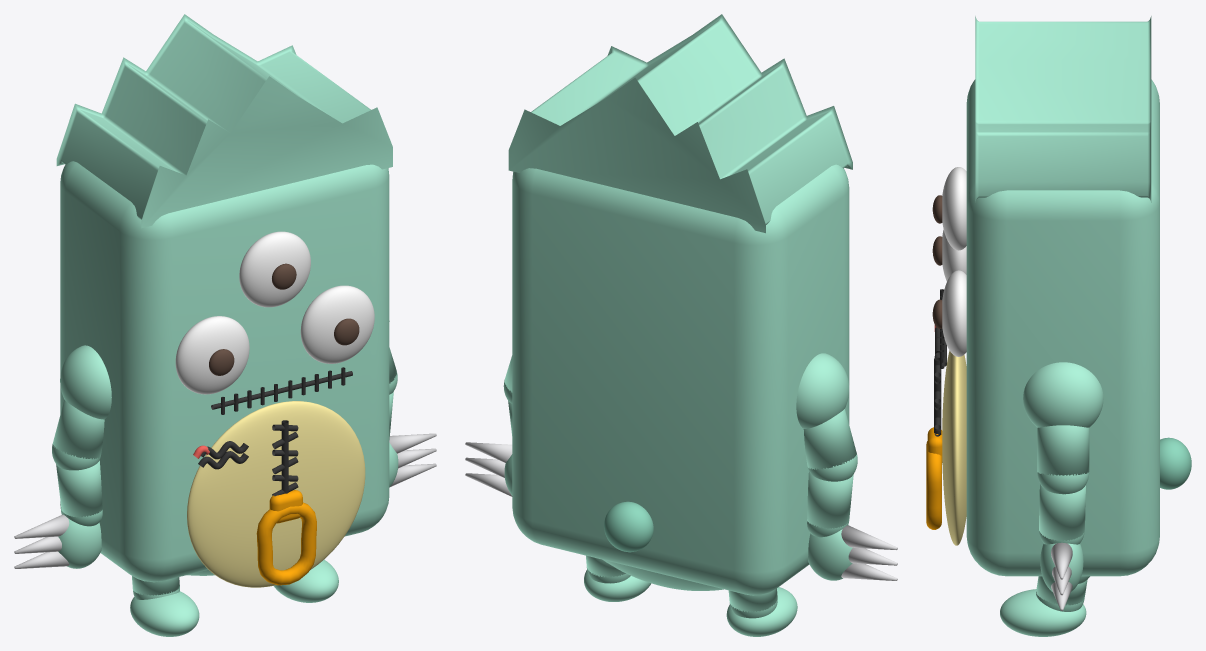
The model's file is lukman_v2.glb.
3 views of the same model, side by side, from view 1: azimuth 30°, elevation 25°; view 2: azimuth 150°, elevation 25°; view 3: azimuth 270°, elevation 25° (orthographic). The views are drawn at different scales.
Visible parts, largest first — view 1: BODY, HEAD_CREST, BELLY_PATCH, EYE.LEFT, EYE.RIGHT, EYE.TOP, SHOULDER.L, ZIPPER.PULL_LOOP, FOOT.L, UPPER_ARM.L, FOREARM.L, FOOT.R (+7 smaller); view 2: BODY, HEAD_CREST, SHOULDER.L, UPPER_ARM.L, FOREARM.L, BACK_NUB, FOOT.L, HAND.L.PALM, FOOT.R, LOWER_VOLUME, CALF.L, CLAW.L.1 (+2 smaller); view 3: BODY, HEAD_CREST, SHOULDER.R, BELLY_PATCH, UPPER_ARM.R, FOOT.R, FOREARM.R, EYE.RIGHT, EYE.TOP, BACK_NUB, ZIPPER.PULL_LOOP, HAND.R.PALM (+4 smaller).
Part boxes in pixels (box(x1,y1,x2,y2)): BODY: box(60, 161, 389, 582); HEAD_CREST: box(56, 14, 392, 228); BELLY_PATCH: box(187, 401, 365, 587); EYE.LEFT: box(175, 316, 249, 394); EYE.RIGHT: box(300, 285, 374, 363); EYE.TOP: box(239, 231, 310, 307); SHOULDER.L: box(60, 345, 111, 419); ZIPPER.PULL_LOOP: box(256, 502, 316, 585); FOOT.L: box(130, 591, 199, 636); UPPER_ARM.L: box(52, 400, 104, 459); FOREARM.L: box(56, 460, 102, 517); FOOT.R: box(274, 559, 338, 602); BODY: box(512, 164, 849, 595); HEAD_CREST: box(508, 14, 852, 233); SHOULDER.L: box(796, 353, 849, 428); UPPER_ARM.L: box(803, 409, 856, 469); FOREARM.L: box(807, 471, 853, 528); BACK_NUB: box(604, 501, 653, 552); FOOT.L: box(726, 587, 797, 636); HAND.L.PALM: box(808, 525, 852, 580); FOOT.R: box(584, 570, 651, 601); LOWER_VOLUME: box(603, 560, 723, 590); CALF.L: box(728, 588, 777, 612); CLAW.L.1: box(841, 525, 897, 549); BODY: box(966, 79, 1159, 576); HEAD_CREST: box(975, 16, 1151, 202); SHOULDER.R: box(1023, 362, 1103, 427); BELLY_PATCH: box(942, 350, 966, 545); UPPER_ARM.R: box(1037, 425, 1089, 475); FOOT.R: box(1000, 589, 1086, 636); FOREARM.R: box(1039, 484, 1085, 540); EYE.RIGHT: box(942, 270, 966, 356); EYE.TOP: box(942, 167, 966, 250); BACK_NUB: box(1160, 437, 1191, 489); ZIPPER.PULL_LOOP: box(926, 441, 941, 529); HAND.R.PALM: box(1040, 543, 1083, 591).
Bounding box in the file's own units: 3.5 × 4.46 × 1.84.
